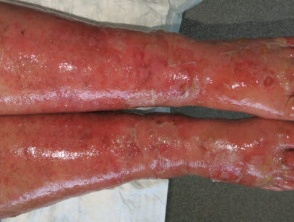SJS-TEN: (0, 0, 294, 123), (0, 106, 294, 218)
